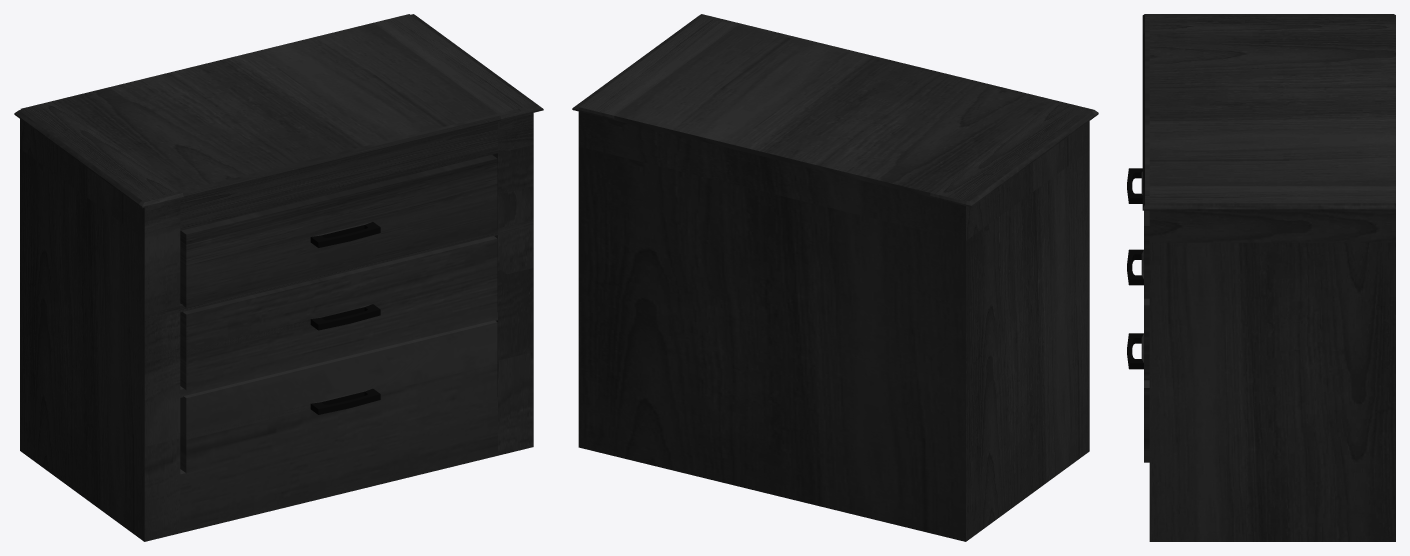
File: buro.fbx
The picture shows the model from 3 angles, left to right: view 1: azimuth 30°, elevation 25°; view 2: azimuth 150°, elevation 25°; view 3: azimuth 270°, elevation 25°; orthographic projection.
Visible parts, largest first — view 1: Cube; view 2: Cube; view 3: Cube.
Boxes of the visible parts, bbox=[...] form: Cube: bbox=[14, 14, 543, 541]; Cube: bbox=[572, 14, 1098, 541]; Cube: bbox=[1127, 14, 1395, 541].
Size of the model in its own units: 124 by 101 by 72.96.
Materials: 1 (1 with a texture image).
